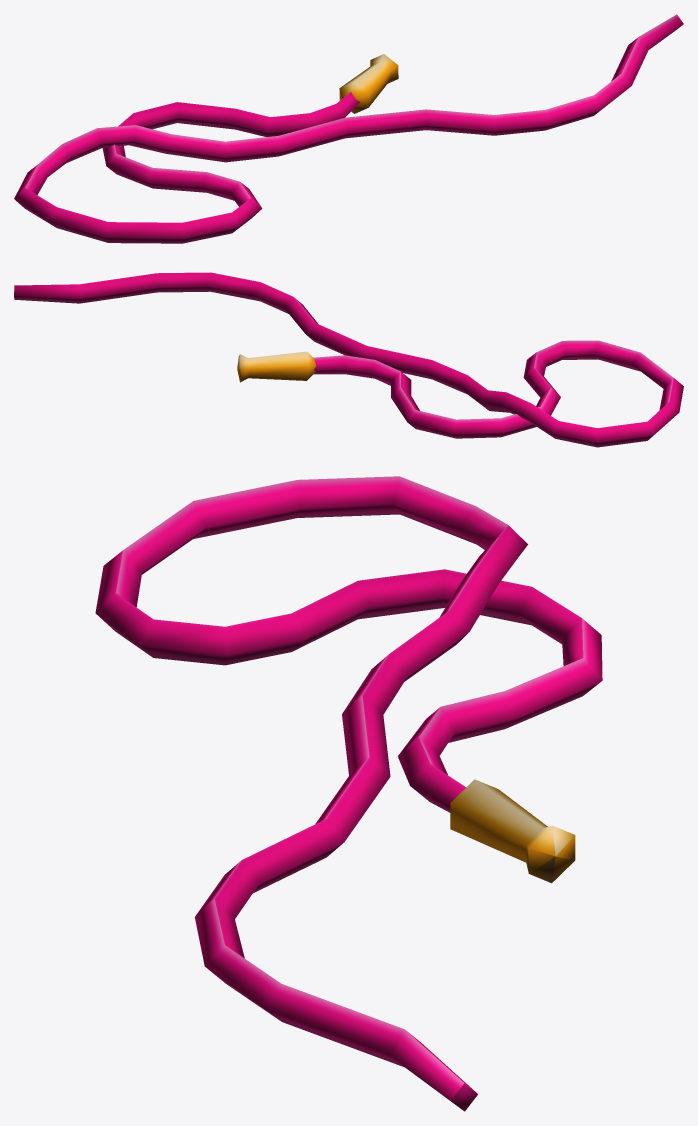
Rendered from Hose_2A.fbx.
The picture shows the model from 3 angles, top to bottom: view 1: azimuth 30°, elevation 25°; view 2: azimuth 150°, elevation 25°; view 3: azimuth 270°, elevation 25°; orthographic projection. The views are drawn at different scales.
Parts seen in each view (by area): view 1: Hose_2A; view 2: Hose_2A; view 3: Hose_2A.
Part boxes in pixels (left/top/right/bottom): Hose_2A: left=14, top=14, right=683, bottom=243; Hose_2A: left=14, top=272, right=683, bottom=447; Hose_2A: left=95, top=476, right=602, bottom=1111.
Bounding box in the file's own units: 251 × 14.74 × 87.55.
